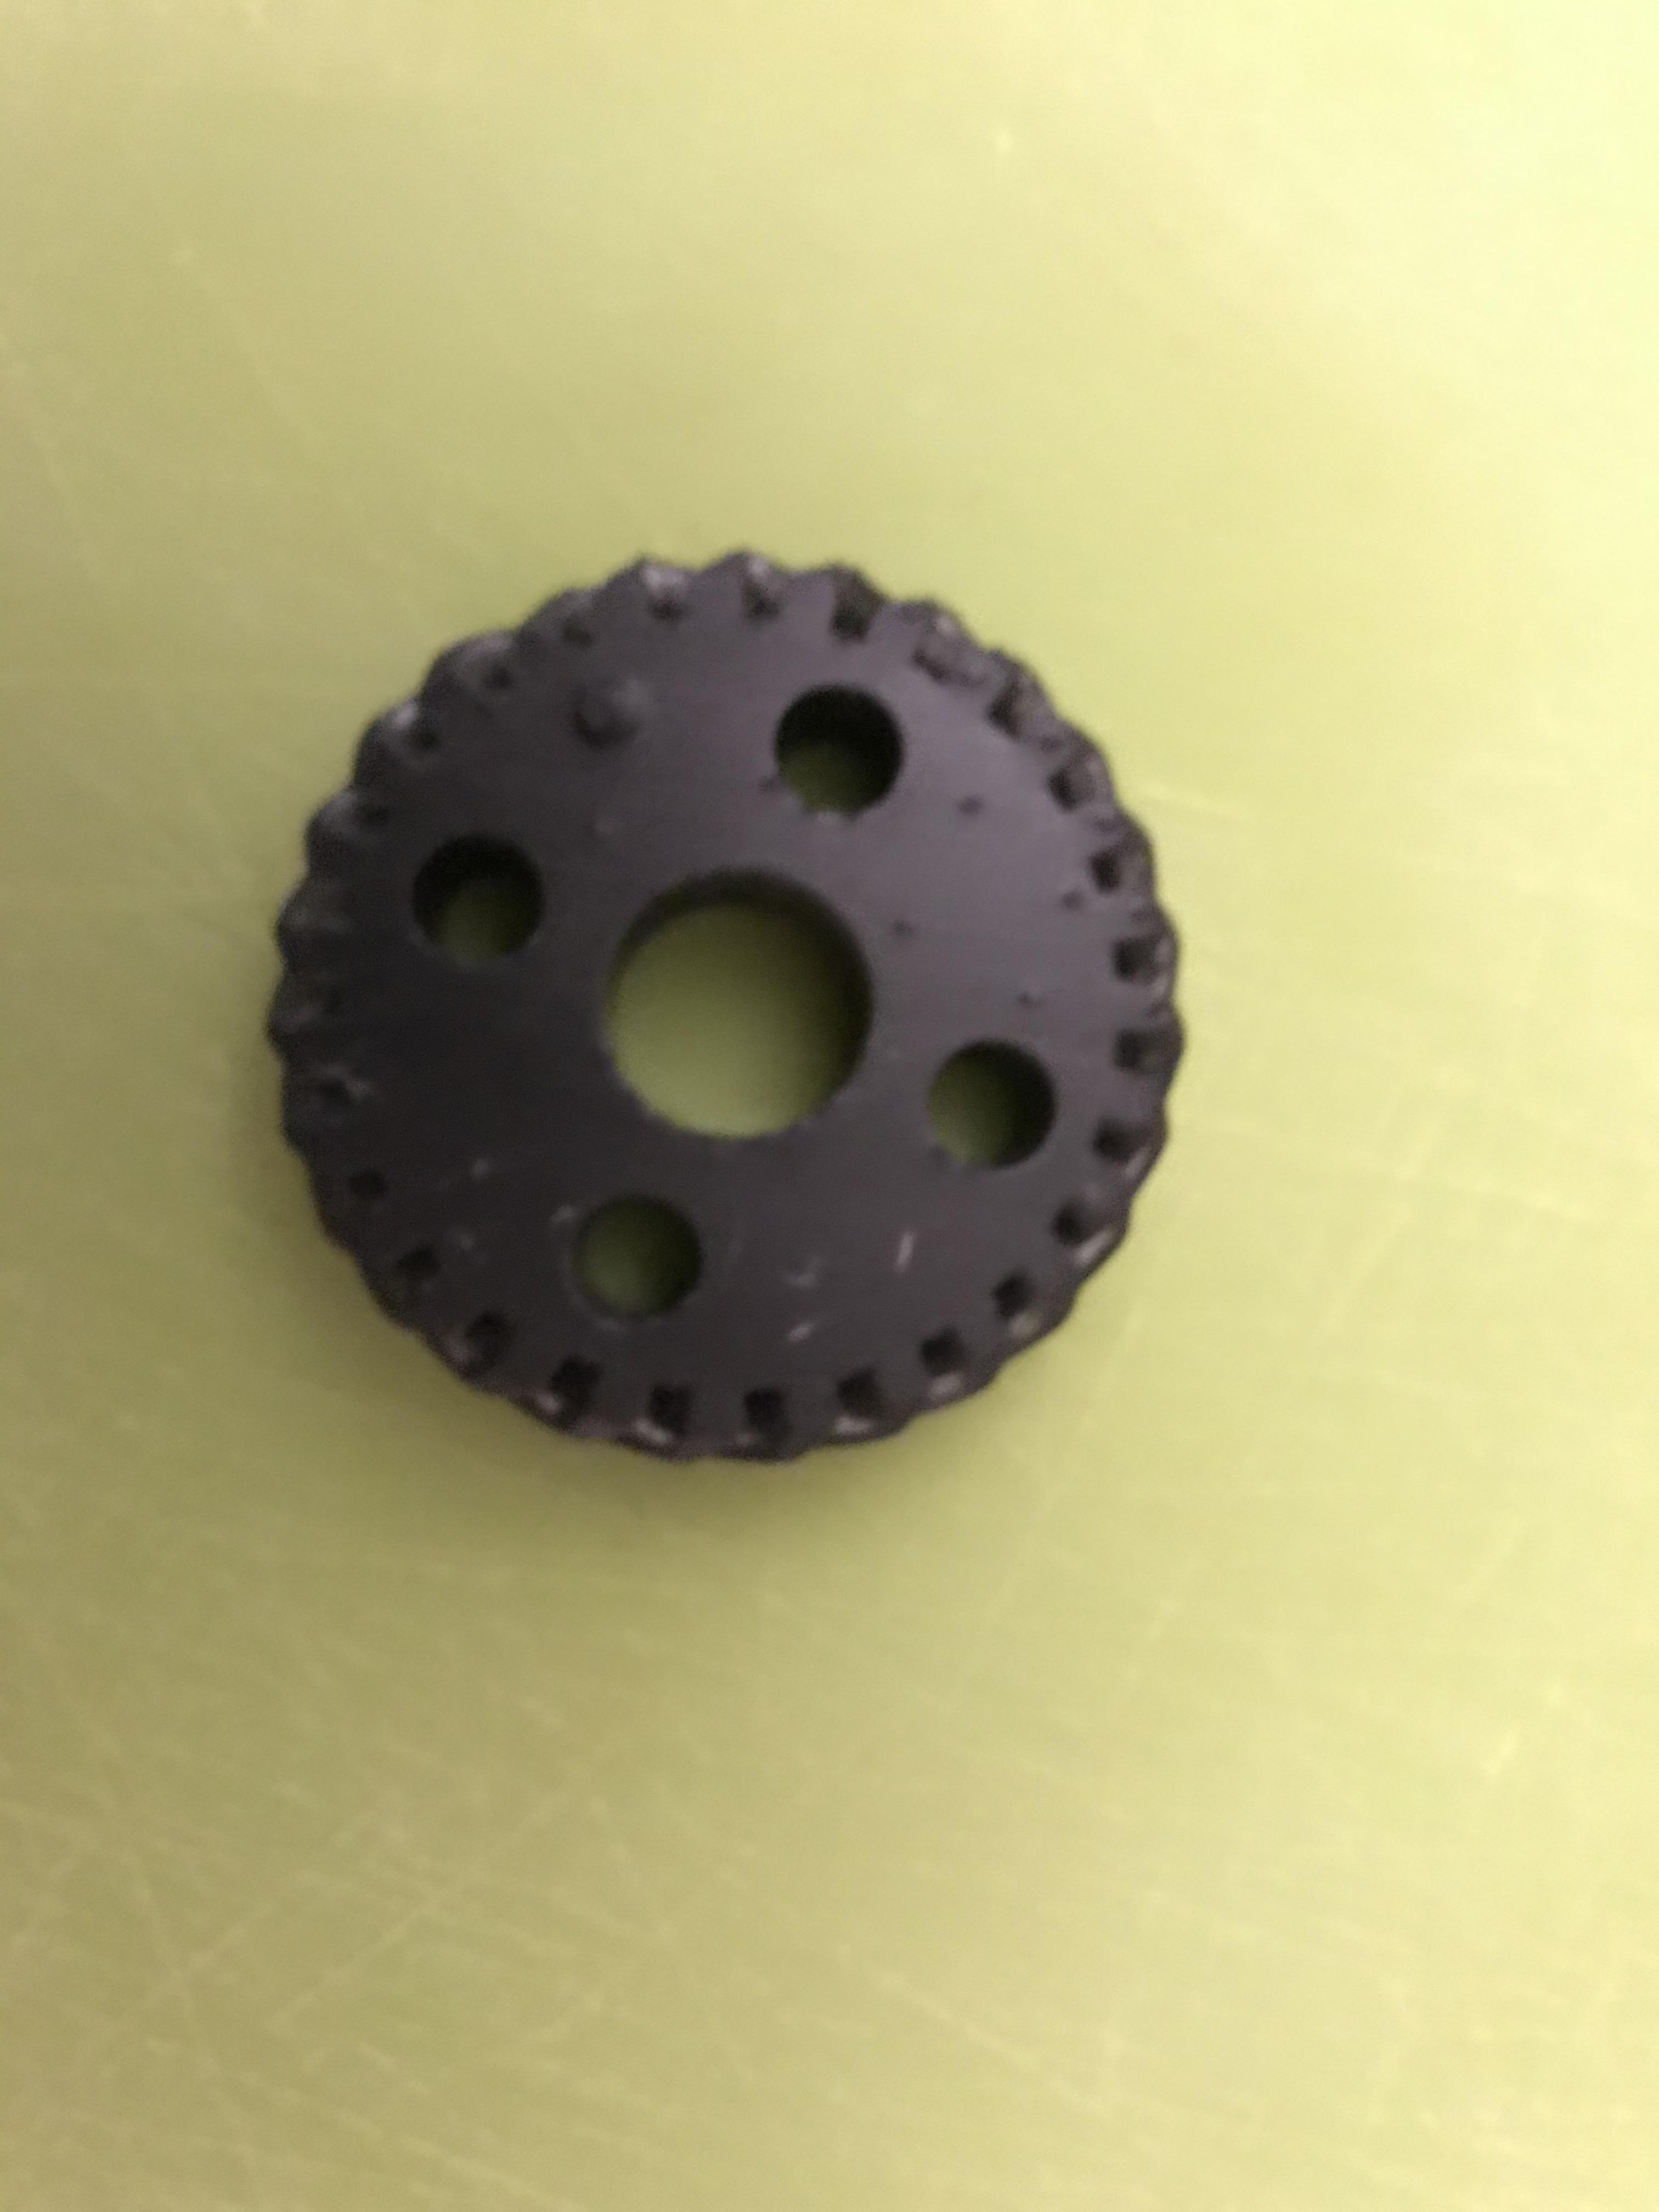Wheel: (253, 528, 1188, 1480)
